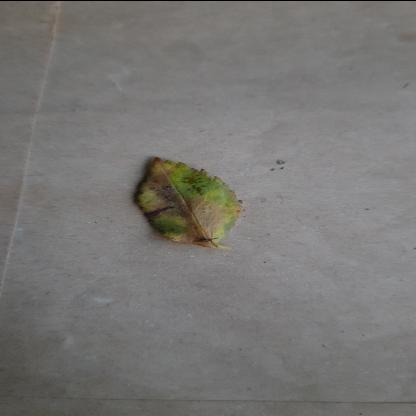downy-mildew: (128, 156, 248, 248)
